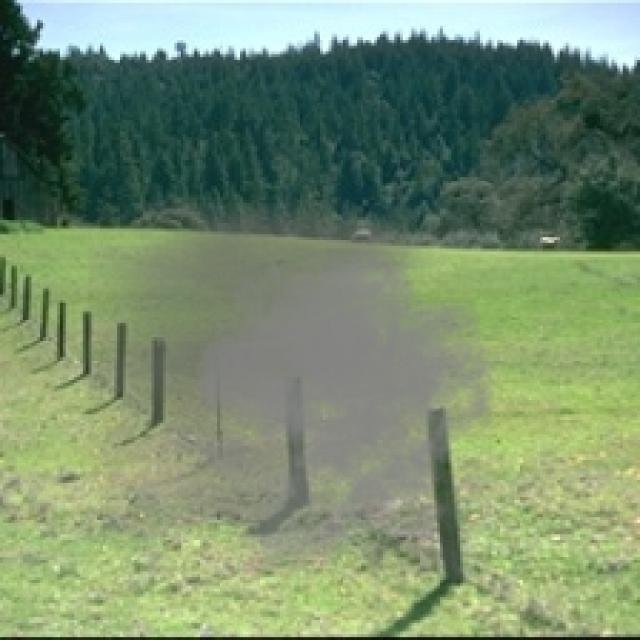smoke: (88, 194, 506, 580)
